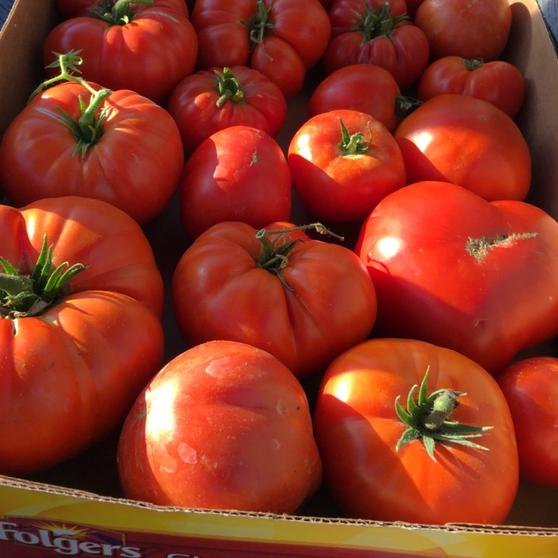tomato: (326, 333, 523, 536), (362, 182, 558, 362), (172, 218, 381, 360), (11, 73, 186, 220)
